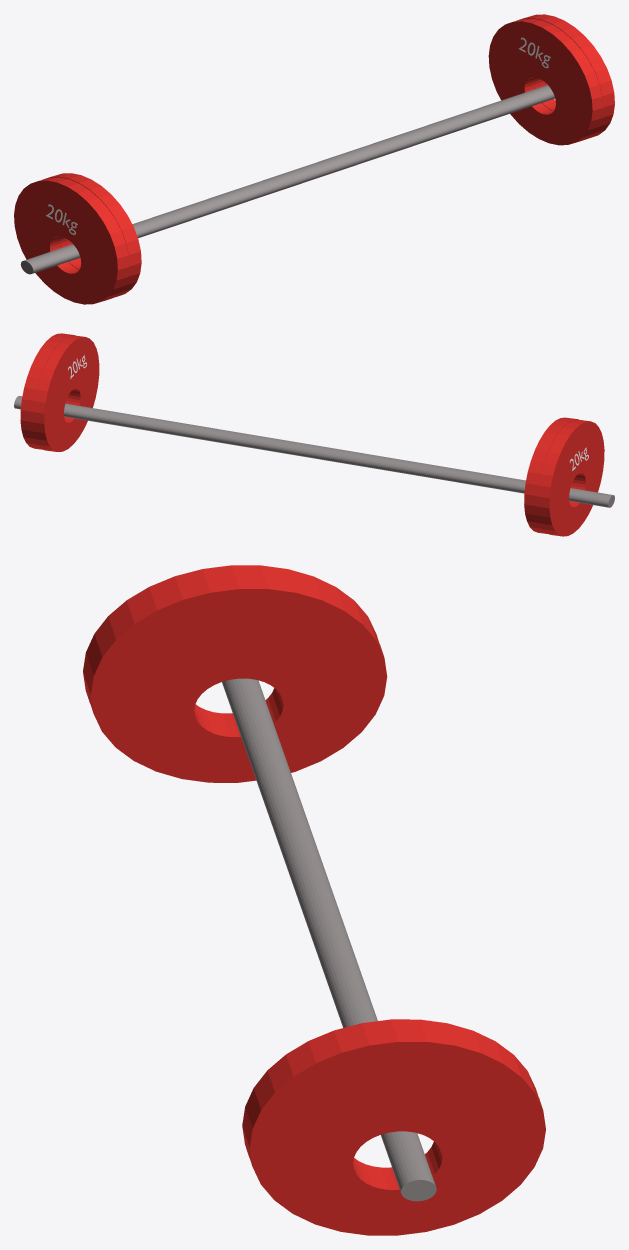
Rendered from Halteres.glb.
3 views of the same model, one above another, from view 1: azimuth 30°, elevation 25°; view 2: azimuth 150°, elevation 25°; view 3: azimuth 270°, elevation 25° (orthographic). The views are drawn at different scales.
Parts seen in each view (by area): view 1: Cercle.002, Cercle.001, Cylindre, Cercle, Cercle.003; view 2: Cylindre, Cercle.002, Cercle.001, Cercle, Cercle.003; view 3: Cercle.003, Cercle, Cylindre, Cercle.002, Cercle.001.
Part boxes in pixels (box(x1,y1,x2,y2)): Cercle.002: box(14, 177, 129, 304); Cercle.001: box(488, 18, 604, 145); Cylindre: box(20, 85, 554, 274); Cercle: box(43, 173, 141, 297); Cercle.003: box(517, 14, 614, 138); Cylindre: box(14, 396, 614, 507); Cercle.002: box(536, 419, 604, 536); Cercle.001: box(31, 335, 99, 451); Cercle: box(524, 417, 578, 533); Cercle.003: box(20, 333, 75, 449); Cercle.003: box(245, 1029, 545, 1235); Cercle: box(87, 576, 387, 782); Cylindre: box(222, 678, 436, 1201); Cercle.002: box(83, 565, 378, 724); Cercle.001: box(242, 1019, 537, 1177).
Size of the model in its own units: 13.68 by 2.36 by 4.99.
